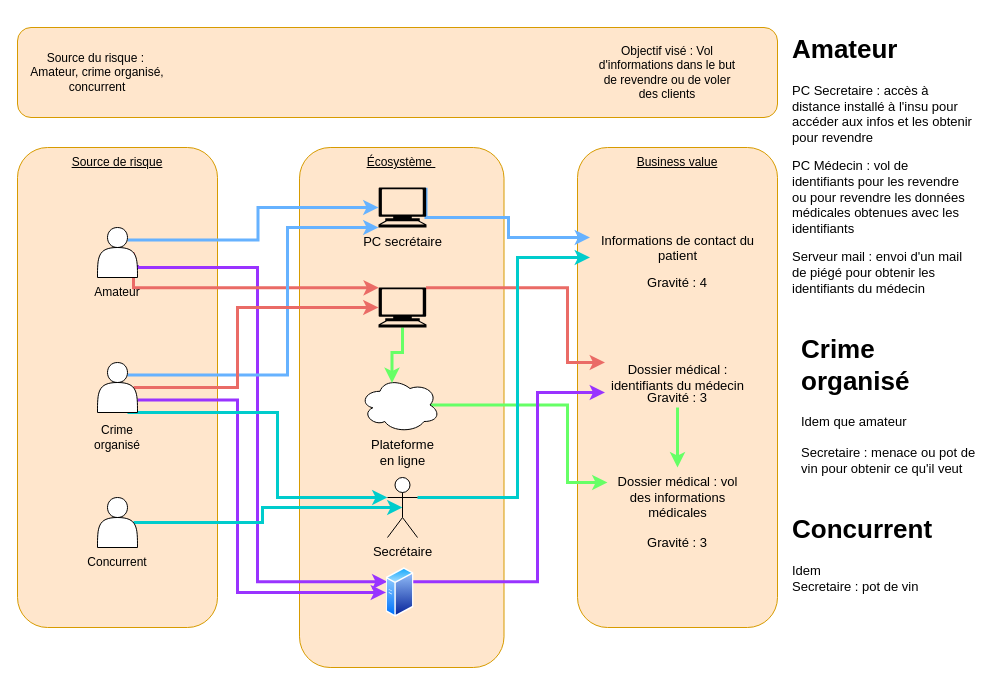
Image size: 1004x685. Some labels were removed from this diagram. The centre of each missing label's shape, as x and y in pixels:
"Mail" belongs at (400,592).
"PC médecin" belongs at (402,307).
